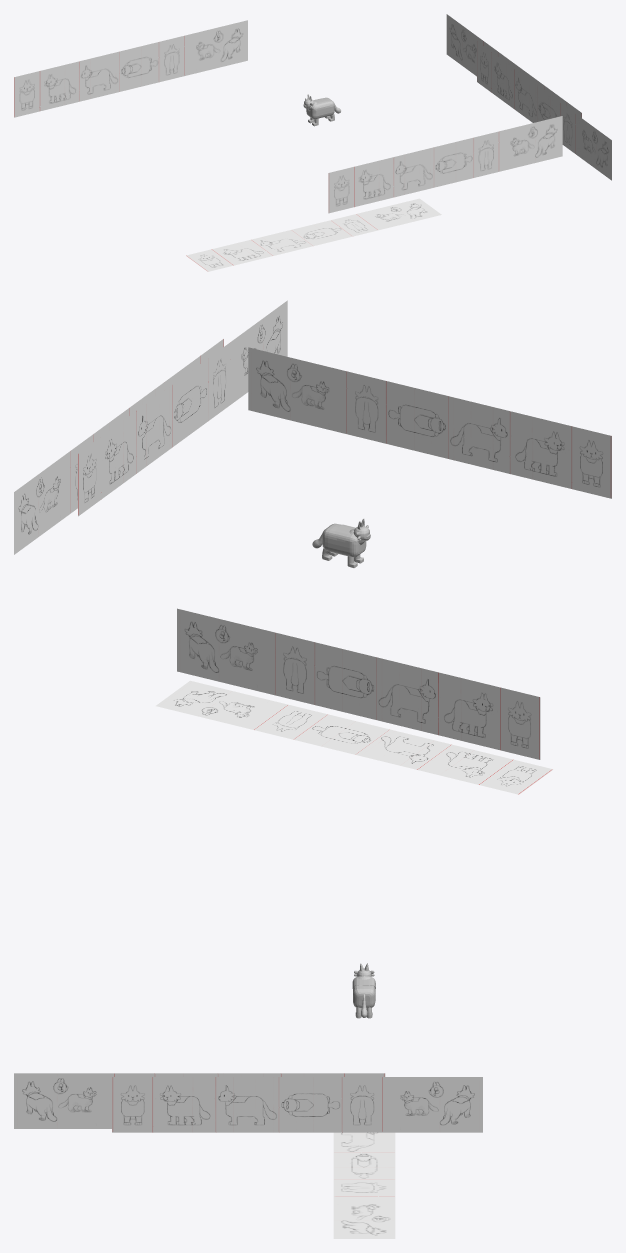
The model's file is katrees model.fbx.
3 renders of one model, top to bottom at view 1: azimuth 30°, elevation 25°; view 2: azimuth 150°, elevation 25°; view 3: azimuth 270°, elevation 25°, orthographic. The views are drawn at different scales.
Visible parts, largest first — view 1: CharacterTurnAround.002, CharacterTurnAround.005, CharacterTurnAround.004, CharacterTurnAround.003, CharacterTurnAround.001, catrees; view 2: CharacterTurnAround.002, CharacterTurnAround.005, CharacterTurnAround.004, CharacterTurnAround.003, CharacterTurnAround.001, catrees; view 3: CharacterTurnAround.001, CharacterTurnAround.004, CharacterTurnAround.003, catrees.
Part boxes in pixels (x1,y1,x2,y2): CharacterTurnAround.002: (328,116,562,213); CharacterTurnAround.005: (14,20,247,117); CharacterTurnAround.004: (186,198,441,271); CharacterTurnAround.003: (477,42,611,180); CharacterTurnAround.001: (446,14,581,117); catrees: (303,94,340,126); CharacterTurnAround.002: (248,347,611,498); CharacterTurnAround.005: (177,608,540,759); CharacterTurnAround.004: (156,680,553,794); CharacterTurnAround.003: (78,300,287,516); CharacterTurnAround.001: (14,339,223,554); catrees: (312,518,370,567); CharacterTurnAround.001: (112,1077,482,1132); CharacterTurnAround.004: (333,1132,395,1238); CharacterTurnAround.003: (14,1073,385,1128); catrees: (352,963,375,1018).
Bounding box in the file's own units: 3807 × 1383 × 3720.
